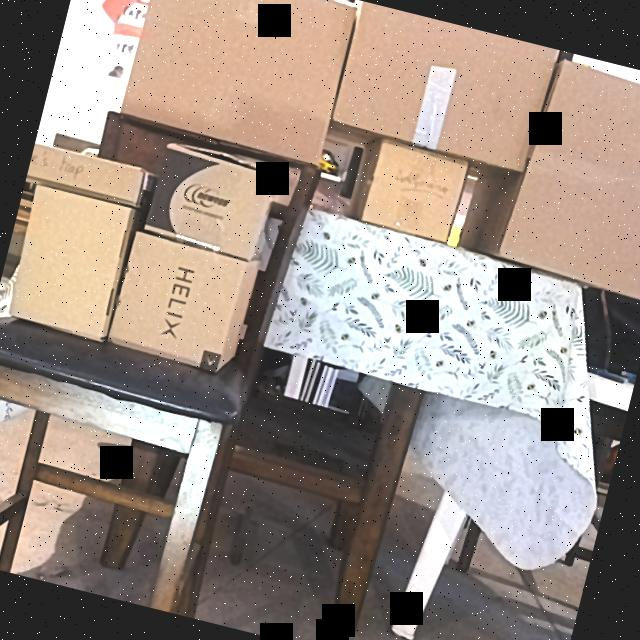box: (120, 0, 358, 162), (330, 0, 554, 169), (499, 55, 640, 295), (1, 182, 136, 341), (109, 231, 248, 374), (145, 143, 272, 258), (361, 137, 466, 240), (26, 140, 146, 207)
